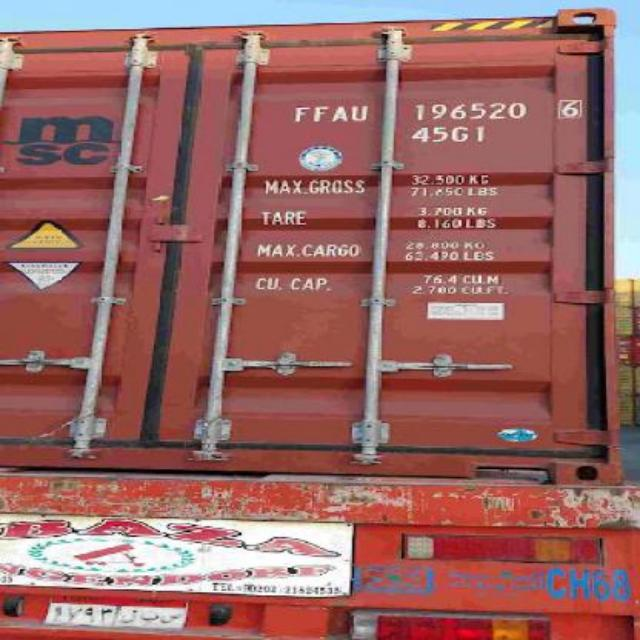0: (508, 96, 530, 120)
1: (406, 97, 430, 121)
2: (484, 98, 504, 120)
5: (468, 91, 486, 123)
6: (552, 98, 586, 118), (450, 98, 468, 120)
9: (430, 96, 448, 122)
A: (328, 100, 349, 124)
F: (288, 97, 308, 127), (310, 102, 328, 126)
U: (351, 99, 372, 125)
